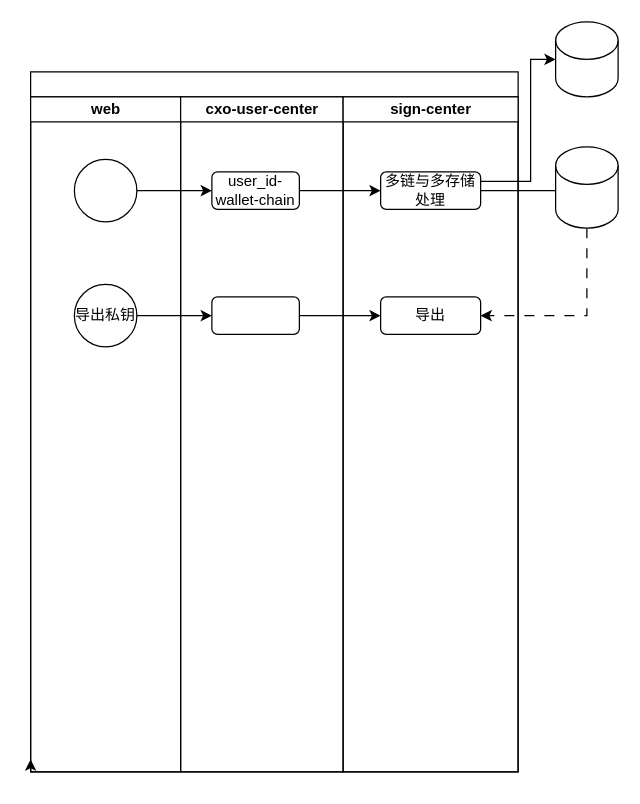
This 640x804 diagram has some shape labels left out. Each missing label, with the centre of its shape:
外部私钥管理: point (586, 59)
导入私钥: point (105, 190)
本地私钥管理: point (586, 187)
获取钱包列表: point (255, 315)
